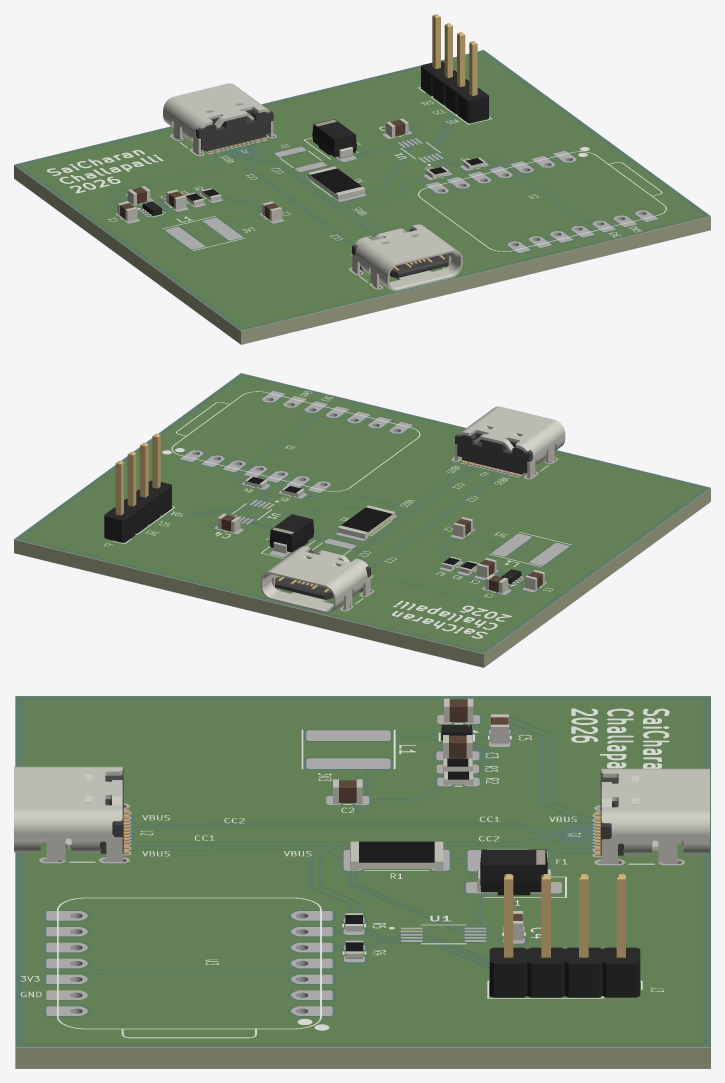
The model's file is pcb.glb.
3 renders of one model, top to bottom at view 1: azimuth 30°, elevation 25°; view 2: azimuth 150°, elevation 25°; view 3: azimuth 270°, elevation 25°, orthographic. The views are drawn at different scales.
Visible parts, largest first — view 1: =>[0:1:1:14], =>[0:1:1:10], =>[0:1:1:16], J1, J2, =>[0:1:1:11], J3, =>[0:1:1:13], D1, R1, =>[0:1:1:15]; view 2: =>[0:1:1:14], =>[0:1:1:10], =>[0:1:1:16], J2, J1, =>[0:1:1:11], J3, =>[0:1:1:13], D1, R1, =>[0:1:1:15]; view 3: =>[0:1:1:14], =>[0:1:1:10], =>[0:1:1:16], =>[0:1:1:11], J3, J2, J1, =>[0:1:1:13], D1, R1, C3, C2 (+2 smaller).
Boxes of the visible parts, x1,y1,x2,y2 form: =>[0:1:1:14]: (14,50,710,330); =>[0:1:1:10]: (22,53,703,327); =>[0:1:1:16]: (14,51,710,344); J1: (163,83,273,155); J2: (352,224,462,291); =>[0:1:1:11]: (116,130,657,289); J3: (421,14,488,123); =>[0:1:1:13]: (47,87,666,282); D1: (312,119,356,158); R1: (307,166,364,199); =>[0:1:1:15]: (14,178,710,344); =>[0:1:1:14]: (14,373,710,653); =>[0:1:1:10]: (21,376,702,650); =>[0:1:1:16]: (14,374,710,667); J2: (455,406,565,478); J1: (260,546,370,613); =>[0:1:1:11]: (180,391,569,611); J3: (104,433,171,542); =>[0:1:1:13]: (103,390,571,638); D1: (269,514,314,553); R1: (338,505,395,538); =>[0:1:1:15]: (14,501,710,667); =>[0:1:1:14]: (15,696,710,1047); =>[0:1:1:10]: (23,700,702,1044); =>[0:1:1:16]: (15,697,710,1068); =>[0:1:1:11]: (39,715,684,1015); J3: (489,874,640,997); J2: (14,766,129,861); J1: (595,768,709,863); =>[0:1:1:13]: (20,708,669,1038); D1: (477,849,550,895); R1: (350,841,443,869); C3: (443,735,472,758); C2: (333,779,362,803).
Bounding box in the file's own units: 0.0561 × 0.0115 × 0.0471.
